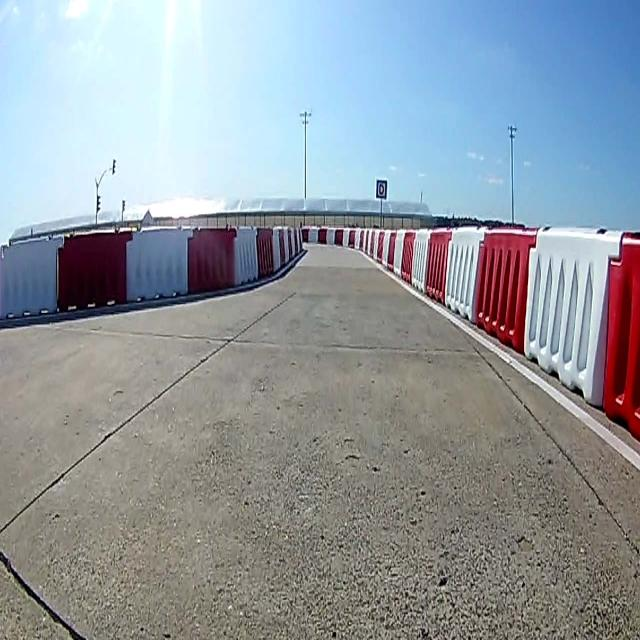durak: (376, 180, 388, 201)
